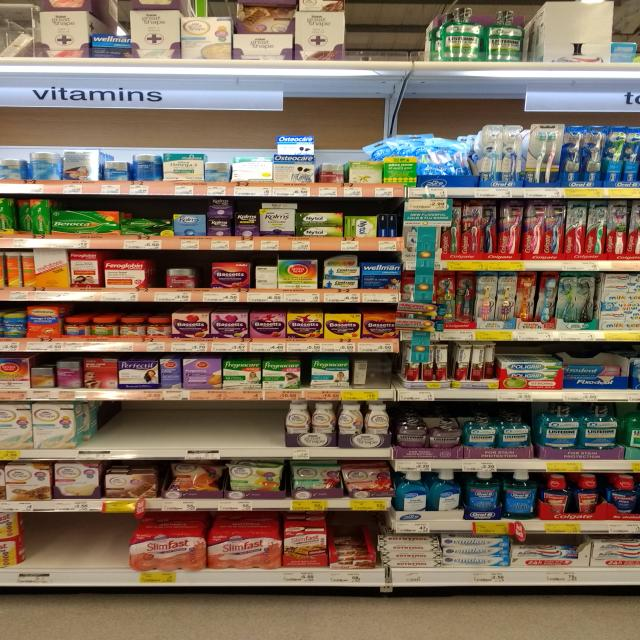empty: (79, 391, 288, 452), (29, 516, 132, 566), (368, 351, 393, 395)
